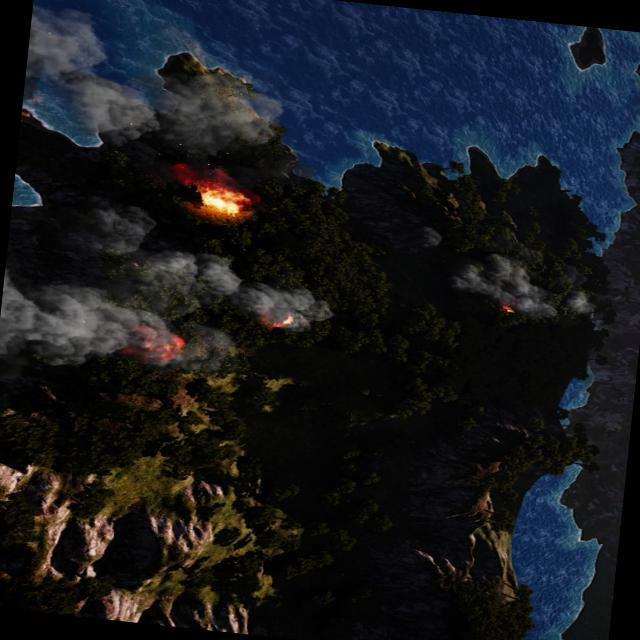fire: (190, 185, 250, 219), (496, 302, 514, 314)
smoke: (0, 185, 341, 418), (15, 10, 300, 198), (439, 248, 596, 324)
